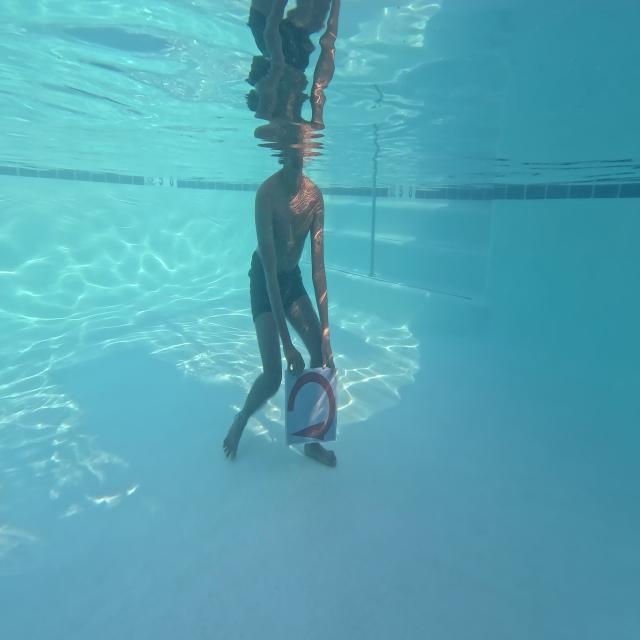red_side: (286, 365, 339, 449)
